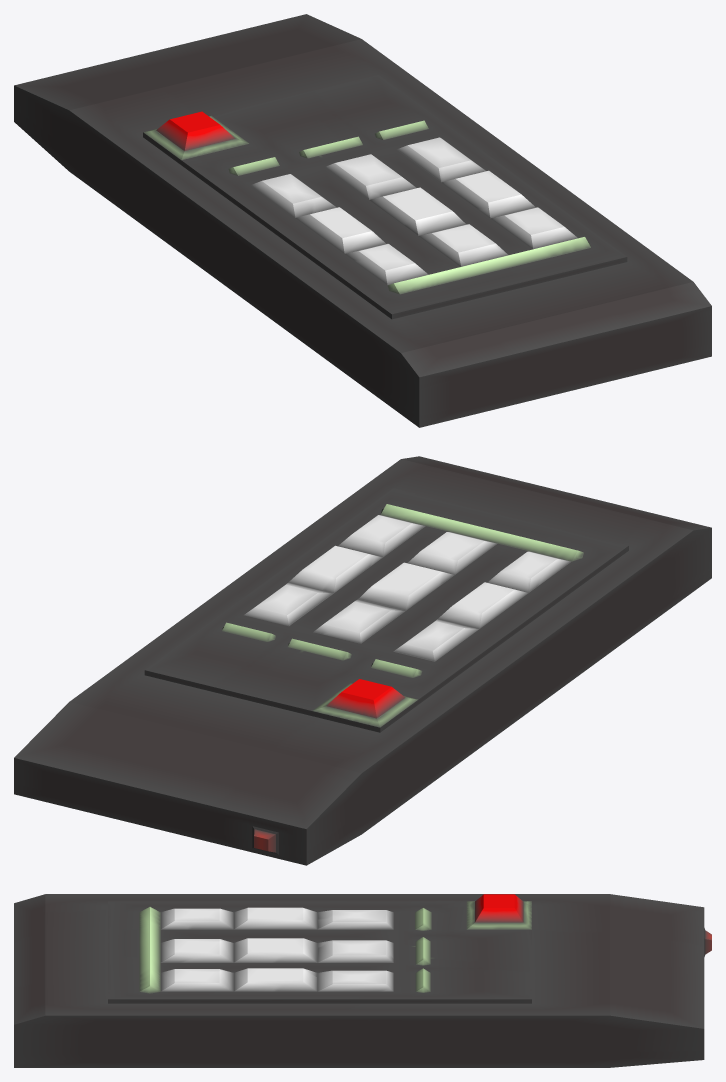
Rendered from Remoto.fbx.
The picture shows the model from 3 angles, top to bottom: view 1: azimuth 30°, elevation 25°; view 2: azimuth 150°, elevation 25°; view 3: azimuth 270°, elevation 25°; orthographic projection. The views are drawn at different scales.
Parts seen in each view (by area): view 1: Cube.001; view 2: Cube.001; view 3: Cube.001.
Boxes of the visible parts, x1=… form: Cube.001: x1=14, y1=14, x2=711, y2=427; Cube.001: x1=14, y1=456, x2=711, y2=865; Cube.001: x1=14, y1=894, x2=711, y2=1067.
Size of the model in its own units: 50 by 13.48 by 121.
Materials: 1 (1 with a texture image).
